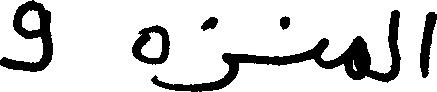X: (0, 0, 51, 76), (190, 12, 237, 91), (131, 20, 167, 91), (346, 31, 371, 84), (420, 7, 436, 82), (388, 0, 399, 91), (314, 33, 326, 73)
